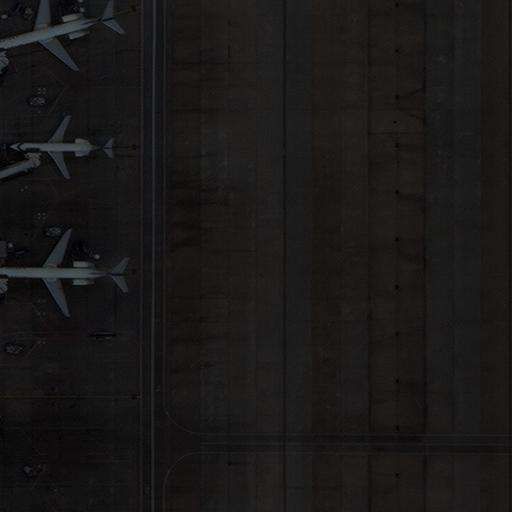Medium Civil Transport: (0, 230, 127, 315), (0, 0, 118, 71), (6, 116, 114, 179)
